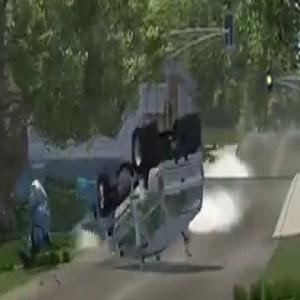critical: (92, 104, 206, 264)
